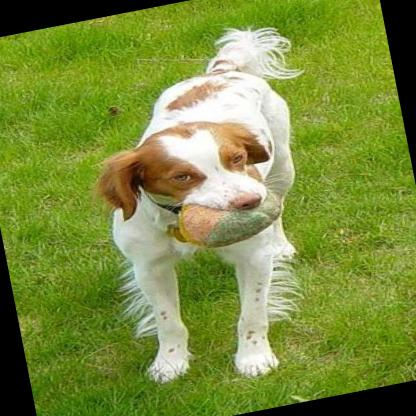Brittany_spaniel: (71, 9, 358, 396)
